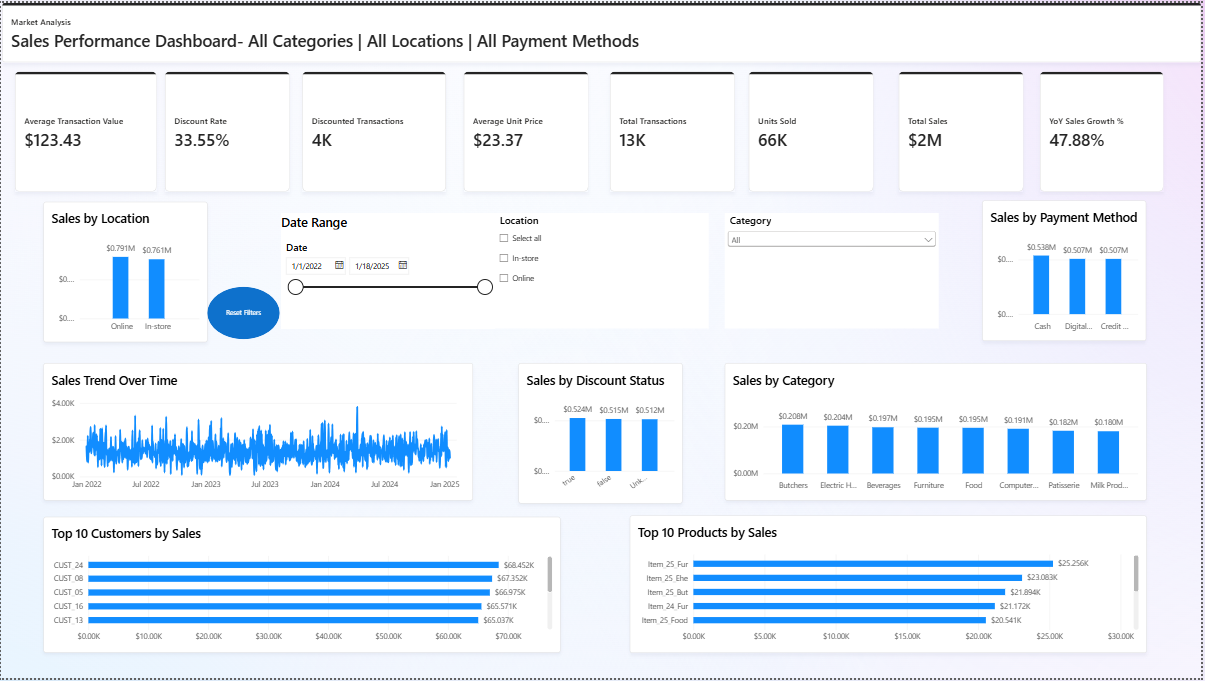

This screenshot's page, from the dashboard's own definition file:
{"tool":"powerbi","page":{"name":"Sales Performance","canvas":[1920,1080],"ordinal":0},"visuals":[{"type":"cardVisual","fields":{"Data":["Fact_Sales.Total_Sales"]},"box":[1435.1,110.4,200,192.5],"z":0},{"type":"cardVisual","fields":{"Data":["Fact_Sales.Total_Quantity"]},"box":[1196.2,110.4,200,192.5],"z":1000},{"type":"cardVisual","fields":{"Data":["Fact_Sales.Total_Transactions"]},"box":[973.6,110.4,200,192.5],"z":2000},{"type":"clusteredColumnChart","title":"Sales by Category","fields":{"Category":["Dim_Category.Category"],"Y":["Fact_Sales.Total_Sales"]},"box":[1157.5,575,675,220],"z":3000},{"type":"clusteredColumnChart","title":"Sales by Location","fields":{"Category":["Dim_Location.Location"],"Y":["Fact_Sales.Total_Sales"]},"box":[67.5,317.5,262.5,225],"z":4000},{"type":"lineChart","title":"Sales Trend Over Time","fields":{"Category":["Dim_Date.Date.Variation.Date Hierarchy.Year"],"Y":["Fact_Sales.Total_Sales"]},"box":[67.5,575,687.5,220],"z":5000},{"type":"clusteredColumnChart","title":"Sales by Payment Method","fields":{"Category":["Dim_Payment_Method.Payment Method"],"Y":["Fact_Sales.Total_Sales"]},"box":[1570,315,262.5,225],"z":6000},{"type":"clusteredBarChart","title":"Top 10 Products by Sales","fields":{"Category":["Dim_Product.Item"],"Y":["Fact_Sales.Total_Sales"]},"box":[1005,820,827.5,220],"z":7000},{"type":"clusteredBarChart","title":"Top 10 Customers by Sales","fields":{"Category":["Dim_Customer.Customer ID"],"Y":["Fact_Sales.Total_Sales"]},"box":[67.5,822.5,827.5,217.5],"z":8000},{"type":"clusteredColumnChart","title":"Sales by Discount Status","fields":{"Category":["Fact_Sales.Discount_Applied_Clean"],"Y":["Fact_Sales.Total_Sales"]},"box":[827.5,575,262.5,225],"z":9000},{"type":"slicer","fields":{"Values":["Dim_Location.Location"]},"box":[790,335,342.5,185],"z":10000},{"type":"slicer","title":"Date Range","fields":{"Values":["Dim_Date.Date"]},"box":[447.5,335,342.5,185],"z":11000},{"type":"slicer","fields":{"Values":["Dim_Category.Category"]},"box":[1158,335,342.5,185],"z":12000},{"type":"cardVisual","fields":{"Data":["Fact_Sales.Average Transaction Value"]},"box":[21.7,110.4,227.5,192.5],"z":13000},{"type":"cardVisual","fields":{"Data":["Fact_Sales.Average Unit Price"]},"box":[740.2,110.4,200,192.5],"z":14000},{"type":"cardVisual","fields":{"Data":["Fact_Sales.Discounted Transactions"]},"box":[481.4,110.4,230,192.5],"z":15000},{"type":"cardVisual","fields":{"Data":["Fact_Sales.Discount Rate"]},"box":[262.4,110.4,200,192.5],"z":16000},{"type":"cardVisual","fields":{"Data":["Fact_Sales.Market Analysis"]},"box":[1.8,0,1918.2,95.9],"z":17000},{"type":"actionButton","title":"Reset Filters","box":[330,454,116,84],"z":18000},{"type":"cardVisual","fields":{"Data":["Fact_Sales.YoY Sales Growth %"]},"box":[1662,110,198,192],"z":19000}]}

Visuals, with their boxes in screenshot pixels (x1, y1, x2, y2), scaled from the page's 1920x1080 canvas onto the 1205x681 screenshot:
cardVisual - Fact_Sales.Total_Sales: bbox(901, 70, 1026, 191)
cardVisual - Fact_Sales.Total_Quantity: bbox(751, 70, 876, 191)
cardVisual - Fact_Sales.Total_Transactions: bbox(611, 70, 737, 191)
"Sales by Category" clusteredColumnChart: bbox(726, 363, 1150, 501)
"Sales by Location" clusteredColumnChart: bbox(42, 200, 207, 342)
"Sales Trend Over Time" lineChart: bbox(42, 363, 474, 501)
"Sales by Payment Method" clusteredColumnChart: bbox(985, 199, 1150, 340)
"Top 10 Products by Sales" clusteredBarChart: bbox(631, 517, 1150, 656)
"Top 10 Customers by Sales" clusteredBarChart: bbox(42, 519, 562, 656)
"Sales by Discount Status" clusteredColumnChart: bbox(519, 363, 684, 504)
slicer - Dim_Location.Location: bbox(496, 211, 711, 328)
"Date Range" slicer: bbox(281, 211, 496, 328)
slicer - Dim_Category.Category: bbox(727, 211, 942, 328)
cardVisual - Fact_Sales.Average Transaction Value: bbox(14, 70, 156, 191)
cardVisual - Fact_Sales.Average Unit Price: bbox(465, 70, 590, 191)
cardVisual - Fact_Sales.Discounted Transactions: bbox(302, 70, 446, 191)
cardVisual - Fact_Sales.Discount Rate: bbox(165, 70, 290, 191)
cardVisual - Fact_Sales.Market Analysis: bbox(1, 0, 1204, 60)
"Reset Filters" actionButton: bbox(207, 286, 280, 339)
cardVisual - Fact_Sales.YoY Sales Growth %: bbox(1043, 69, 1167, 190)
